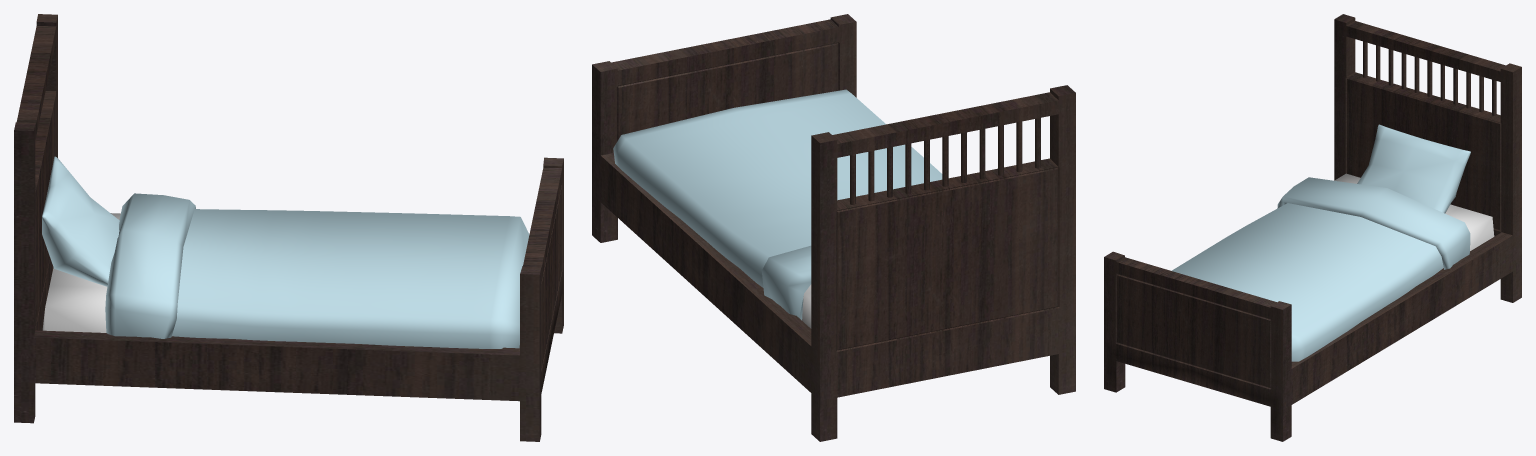
The model's file is IKEA-Hemnes_Single_Bed_Frame_Small-3D.obj.
3 renders of one model, left to right at view 1: azimuth 30°, elevation 25°; view 2: azimuth 150°, elevation 25°; view 3: azimuth 270°, elevation 25°, orthographic. The views are drawn at different scales.
Parts seen in each view (by area): view 1: Box01, Object11, Box04, Box02; view 2: Object11, Box01; view 3: Object11, Box01, Box04, Box02.
Boxes of the visible parts, left/top/right/bottom form: Box01: left=105, top=193, right=529, bottom=348; Object11: left=14, top=14, right=563, bottom=441; Box04: left=42, top=156, right=119, bottom=286; Box02: left=42, top=213, right=120, bottom=332; Object11: left=592, top=14, right=1075, bottom=441; Box01: left=613, top=89, right=942, bottom=320; Object11: left=1104, top=14, right=1521, bottom=441; Box01: left=1171, top=177, right=1470, bottom=361; Box04: left=1357, top=124, right=1470, bottom=213; Box02: left=1334, top=173, right=1494, bottom=250.
Size of the model in its own units: 2216 by 1210 by 1985.
